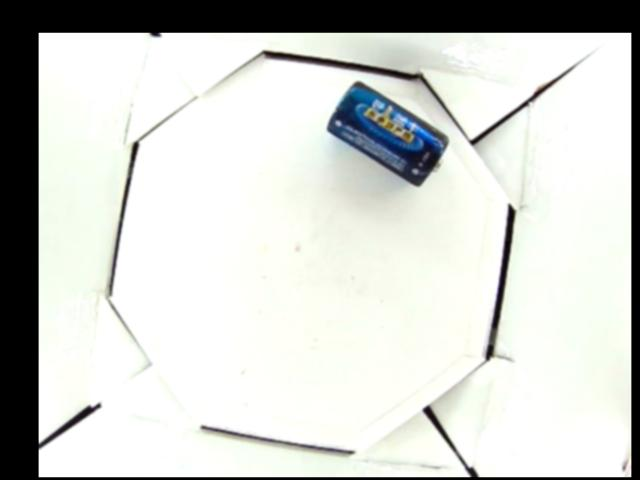Battery: (326, 78, 452, 188)
